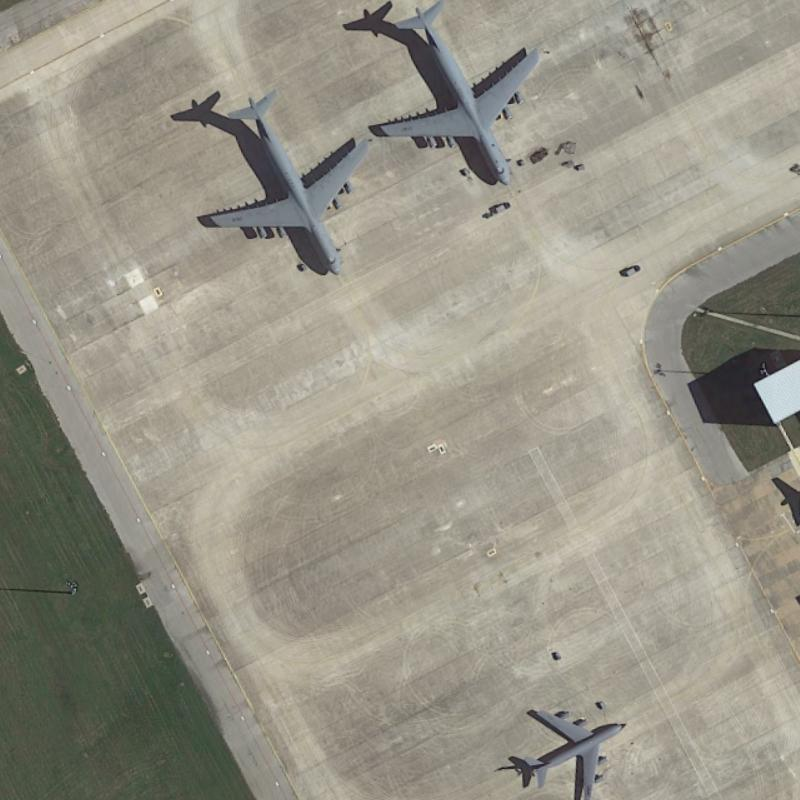A14: (507, 691, 629, 799)
A4: (194, 81, 372, 286), (366, 0, 545, 192)
